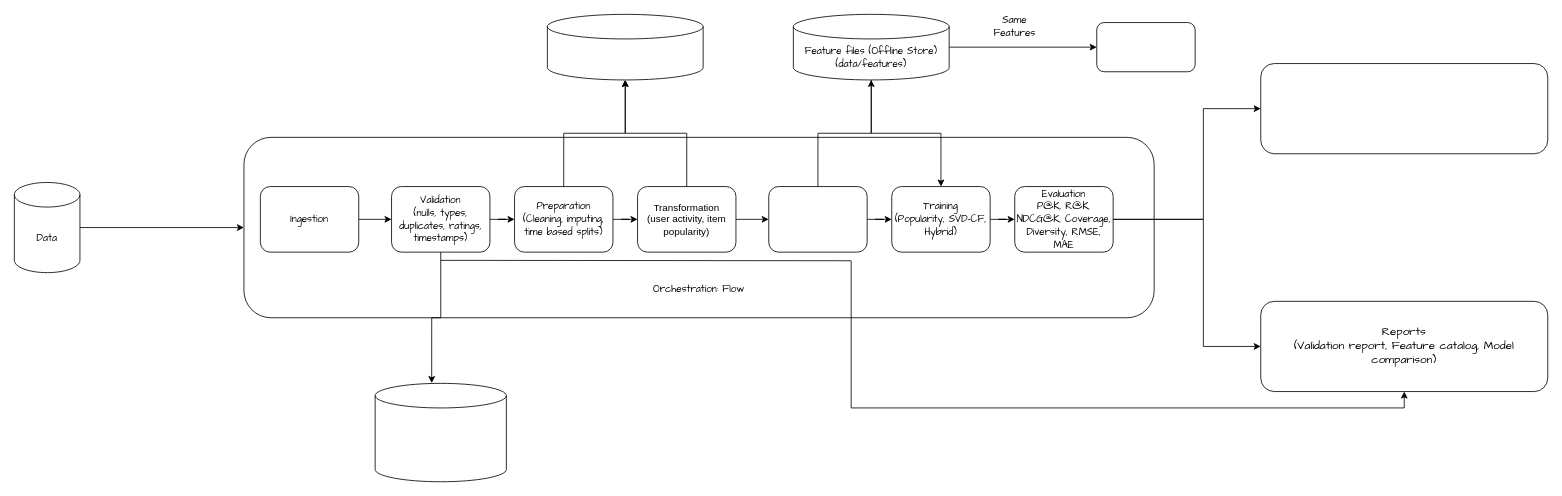
Image size: 1562x496. Some labels were removed from this diagram. The shapes that lost their labels are listed below. From the top down, each one's centre as x and y in pixels, then its label:
At [625,47]: "Processed data (data/processed)".
At [1145,47]: "Prediction / serving Feature Store get_features()".
At [1404,108]: "ML flow (params, metrics, model artifacts)".
At [817,219]: "Feature Management (Feature Store)".
At [440,432]: "Errors rejected rows + issue logs".
